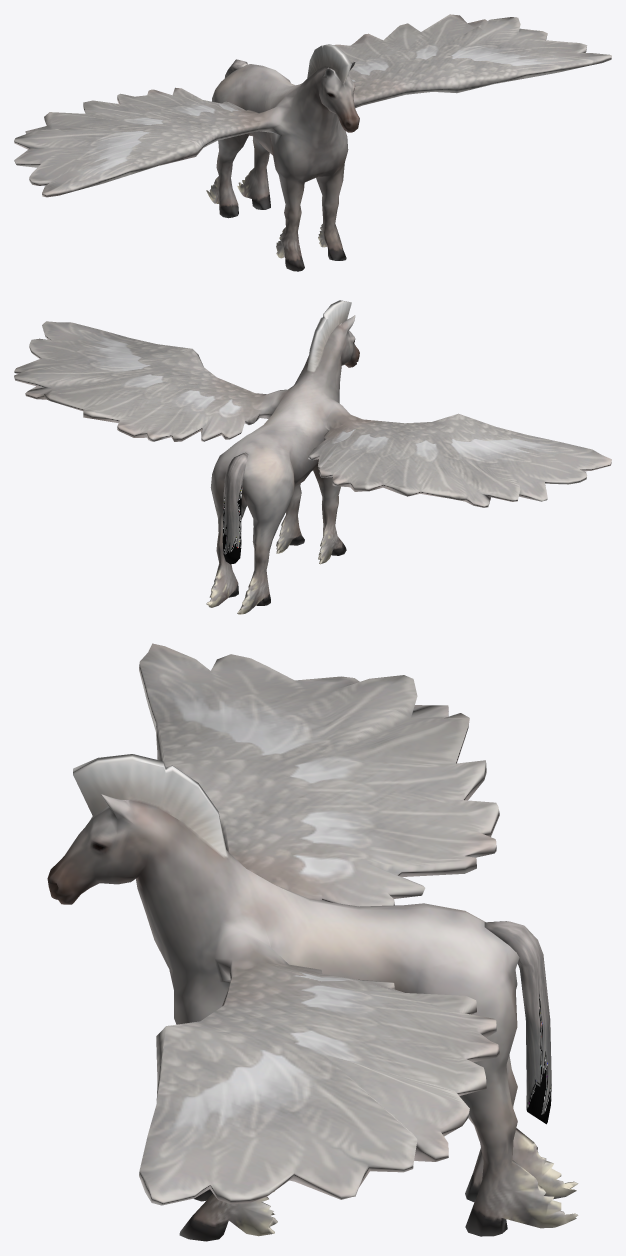
Rendered from 39-pegasus.glb.
The picture shows the model from 3 angles, top to bottom: view 1: azimuth 30°, elevation 25°; view 2: azimuth 150°, elevation 25°; view 3: azimuth 270°, elevation 25°; orthographic projection. The views are drawn at different scales.
Size of the model in its own units: 6.96 by 2.67 by 2.81.
1 material, 1 textured.
